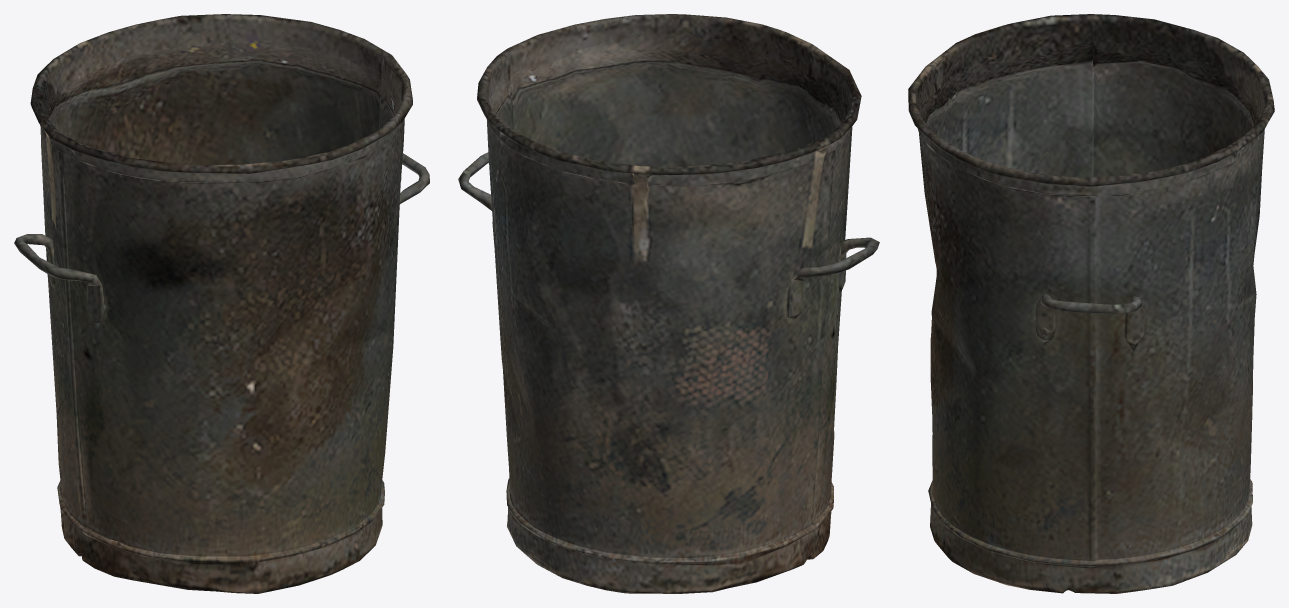
The model's file is SM_Urb_Str_Bin_Trash_Metal_Worn_01_B.gltf.
3 views of the same model, side by side, from view 1: azimuth 30°, elevation 25°; view 2: azimuth 150°, elevation 25°; view 3: azimuth 270°, elevation 25° (orthographic).
Visible parts, largest first — view 1: SM_Urb_Str_Bin_Trash_Metal_Worn_01_B; view 2: SM_Urb_Str_Bin_Trash_Metal_Worn_01_B; view 3: SM_Urb_Str_Bin_Trash_Metal_Worn_01_B.
Part boxes in pixels (box(x1,y1,x2,y2)): SM_Urb_Str_Bin_Trash_Metal_Worn_01_B: box(14, 14, 429, 593); SM_Urb_Str_Bin_Trash_Metal_Worn_01_B: box(458, 14, 879, 593); SM_Urb_Str_Bin_Trash_Metal_Worn_01_B: box(908, 14, 1274, 593).
Size of the model in its own units: 0.5007 by 0.5354 by 0.4089.
1 material, 1 textured.
